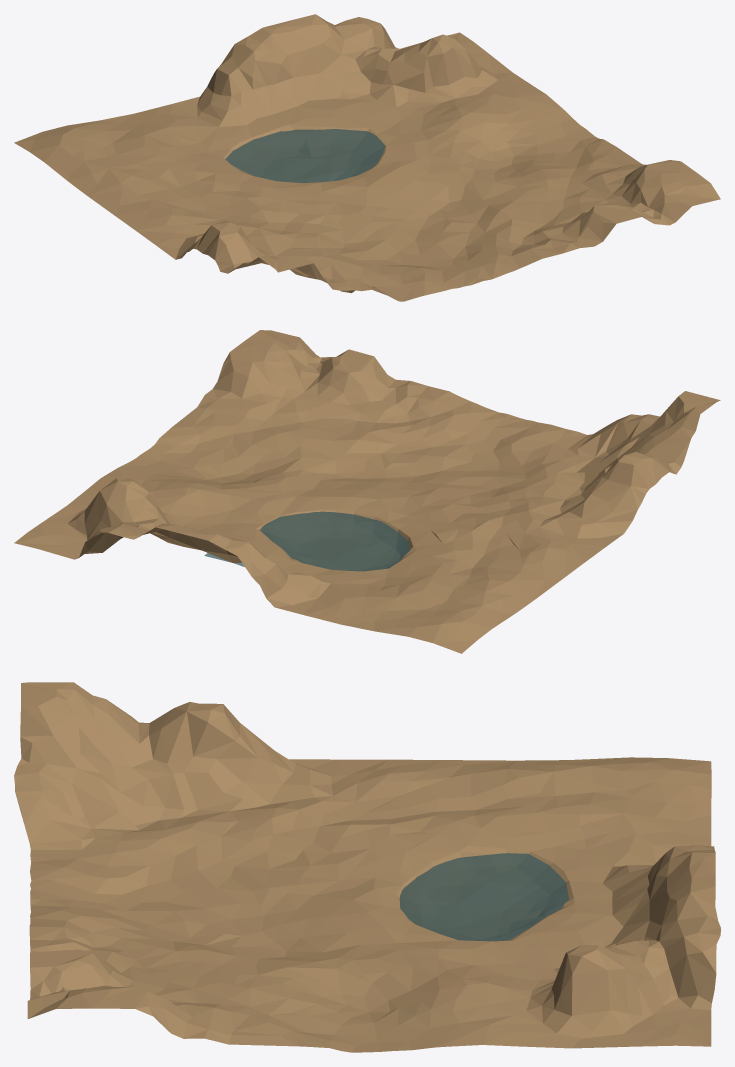
File: waterholePlane.fbx
3 views of the same model, one above another, from view 1: azimuth 30°, elevation 25°; view 2: azimuth 150°, elevation 25°; view 3: azimuth 270°, elevation 25° (orthographic). The views are drawn at different scales.
Parts seen in each view (by area): view 1: Plane.001, Plane.002; view 2: Plane.001, Plane.002; view 3: Plane.001, Plane.002.
Boxes of the visible parts, x1,y1,x2,y2 form: Plane.001: [14, 14, 720, 301]; Plane.002: [225, 129, 385, 183]; Plane.001: [14, 330, 720, 653]; Plane.002: [204, 511, 410, 571]; Plane.001: [14, 682, 720, 1052]; Plane.002: [399, 853, 568, 941].
Size of the model in its own units: 2031 by 325 by 2079.
